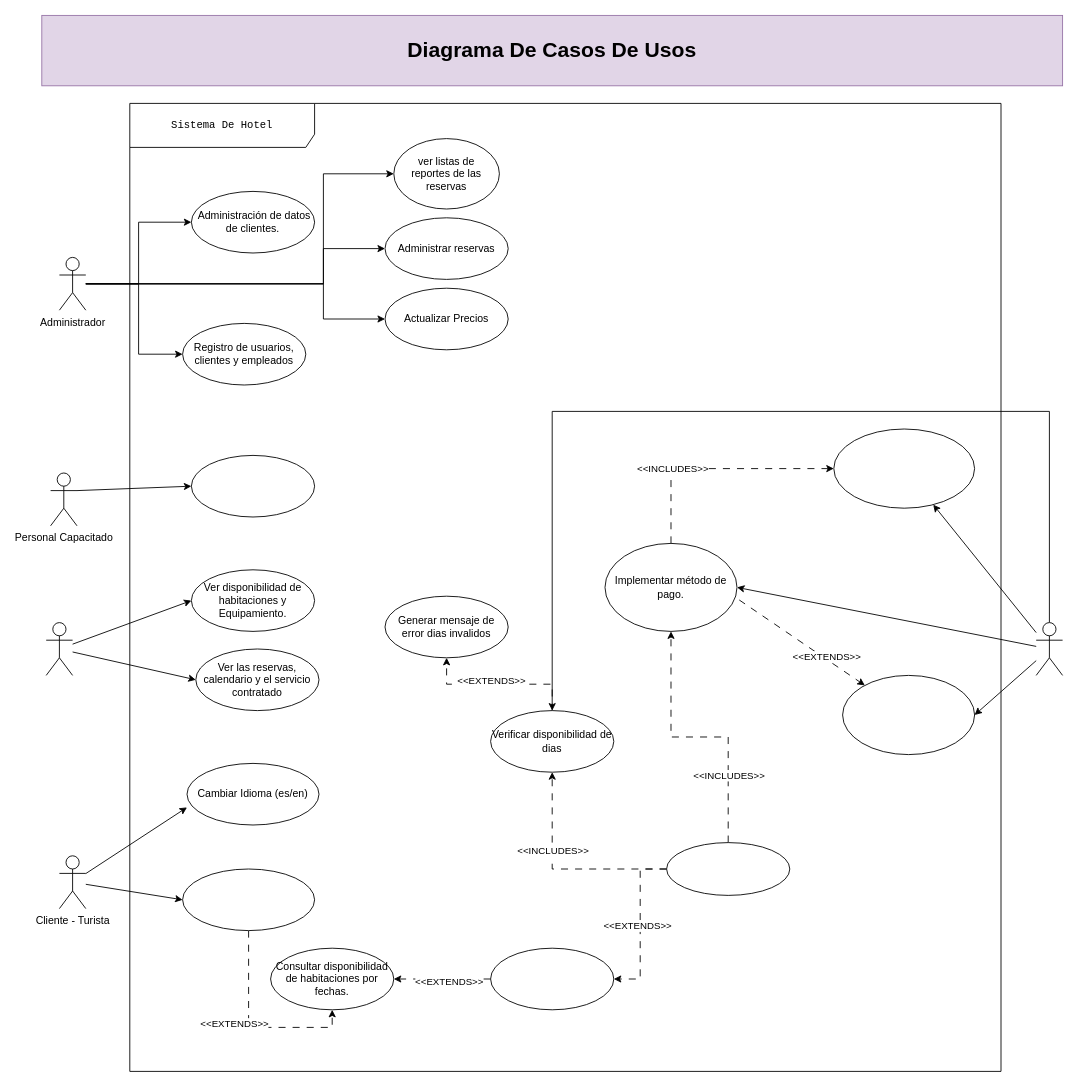
This 1083x1087 diagram has some shape labels left out. The shapes that lost their labels are listed below. From the top down, each one's centre as x and y in pixels, then its label:
At point 253,486: "Actualizar catalogo de habitaciones.".
At point 904,468: "Calcular el pago de la reserva.(30% de los dias)".
At point 59,648: "Emplados".
At point 1049,648: "Sistema".
At point 908,715: "Generar ticket y enviar a correo, si pago exitoso".
At point 728,868: "Pagar reservacion".
At point 248,899: "Ver catalogo de habitaciones".
At point 552,978: "Reservar Habitacion Por N dias".
